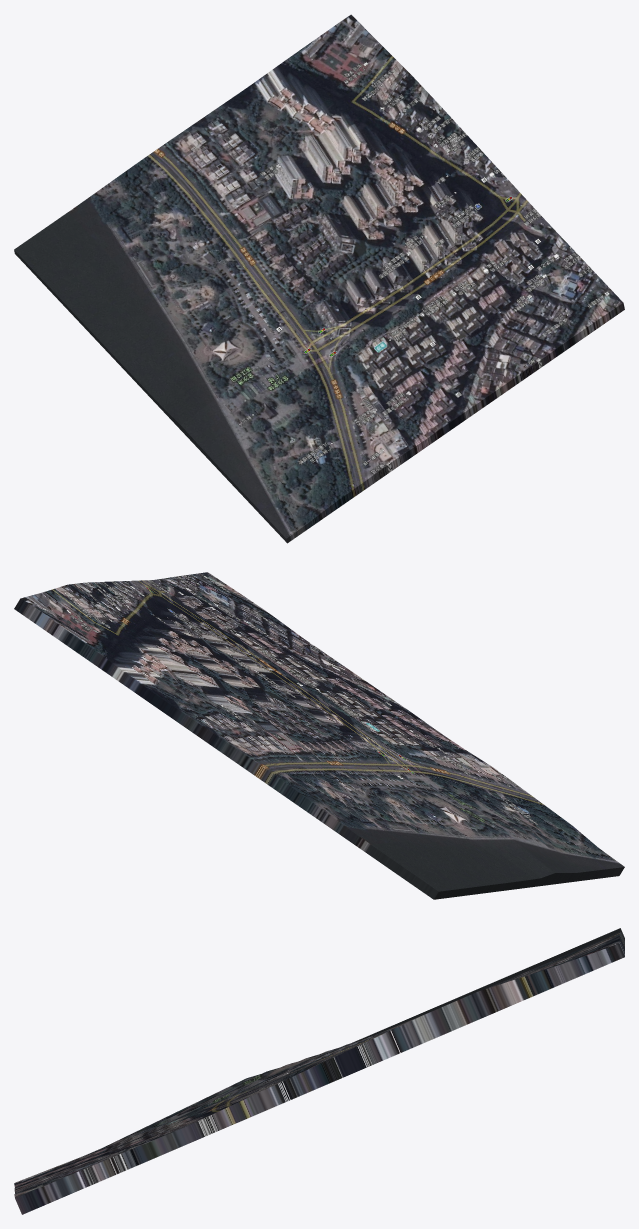
3 views of the same model, one above another, from view 1: azimuth 30°, elevation 25°; view 2: azimuth 150°, elevation 25°; view 3: azimuth 270°, elevation 25° (orthographic). The views are drawn at different scales.
Parts seen in each view (by area): view 1: 0_3_1; view 2: 0_3_1; view 3: 0_3_1.
Boxes of the visible parts, x1,y1,x2,y2 form: 0_3_1: (14, 14, 624, 543); 0_3_1: (14, 572, 624, 899); 0_3_1: (14, 928, 624, 1214).
Bounding box in the file's own units: 596 × 439 × 549.
Materials: 1 (1 with a texture image).
